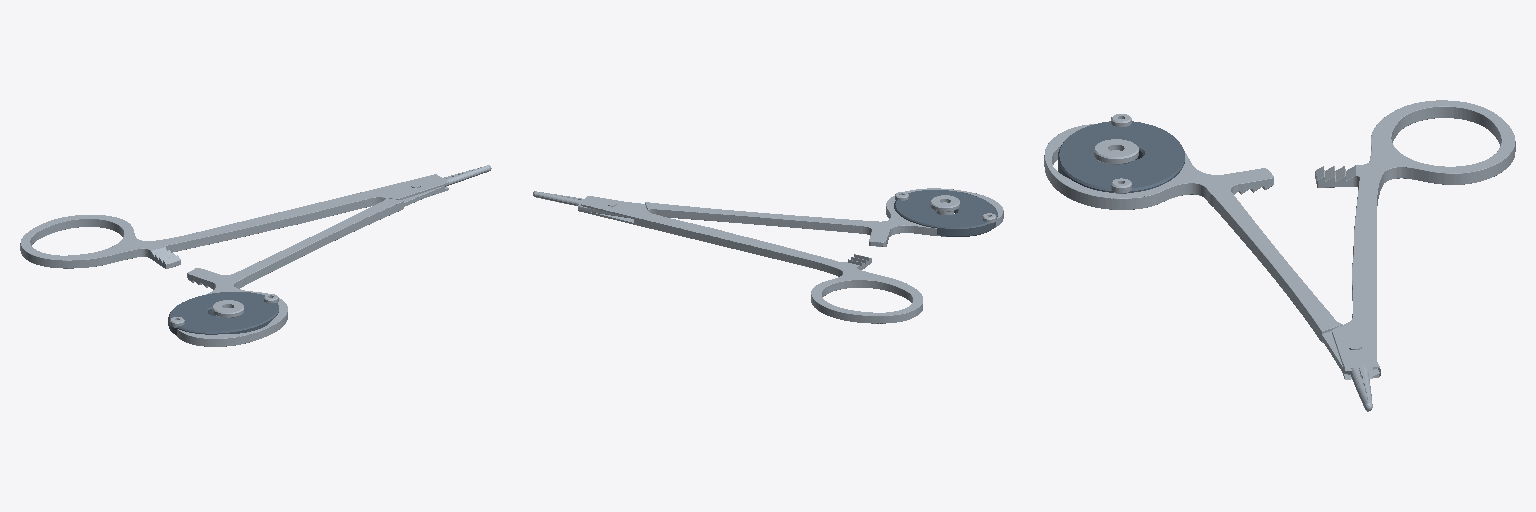
URDF robot description (surgenoid_needle_holder):
<?xml version='1.0' encoding='utf-8'?>
<robot name="surgenoid_needle_holder">
  <link name="SURGERY_CLAMP_ASSY_1">
    <!-- sw2robot inertia="hull" -->
    <collision>
      <origin xyz="0 0 0" rpy="0 0 0" />
      <geometry>
        <mesh filename="package://detachable_tools/meshes/simready_holder/fixed.stl" />
      </geometry>
    </collision>
    <inertial>
      <origin xyz="-0.004059165 0.0026714 -0.000173157" rpy="0 0 0" />
      <mass value="0.00675555" />
      <inertia ixx="4.67905e-07" ixy="9.59811e-07" ixz="1.28892e-08" iyy="6.25673e-06" iyz="-3.42424e-09" izz="6.71611e-06" />
    </inertial>
    <visual name="simready_holder_fixed">
      <origin xyz="0 0 0" rpy="0 0 0" />
      <geometry>
        <mesh filename="package://detachable_tools/meshes/simready_holder/fixed.obj" />
      </geometry>
      <material name="holder_steel">
        <color rgba=".70 .74 .78 1" />
      </material>
    </visual>
  </link>
  <link name="SURGERY_CLAMP_01_1">
    <!-- sw2robot inertia="hull" -->
    <collision>
      <origin xyz="0 0 0" rpy="0 0 0" />
      <geometry>
        <mesh filename="package://detachable_tools/meshes/simready_holder/moving.stl" />
      </geometry>
    </collision>
    <inertial>
      <origin xyz="0.042705769 0.022098692 -0.0013036672" rpy="0 0 0" />
      <mass value="0.00562524" />
      <inertia ixx="1.16073e-06" ixy="-1.91324e-06" ixz="-4.08357e-10" iyy="4.55448e-06" iyz="4.80985e-10" izz="5.71081e-06" />
    </inertial>
    <visual name="simready_holder_moving">
      <origin xyz="0 0 0" rpy="0 0 0" />
      <geometry>
        <mesh filename="package://detachable_tools/meshes/simready_holder/moving.obj" />
      </geometry>
      <material name="holder_steel">
        <color rgba=".70 .74 .78 1" />
      </material>
    </visual>
    <visual name="simready_holder_adapter_plate">
      <origin xyz="0 0 0" rpy="0 0 0" />
      <geometry>
        <mesh filename="package://detachable_tools/meshes/simready_holder/plate.obj" />
      </geometry>
      <material name="holder_brushed">
        <color rgba=".42 .48 .54 1" />
      </material>
    </visual>
    <visual name="simready_holder_adapter_screw_left">
      <origin xyz="0.0629 0.0396 0.0004" rpy="0 0 0" />
      <geometry>
        <mesh filename="package://detachable_tools/meshes/simready_holder/screw.obj" />
      </geometry>
      <material name="holder_steel">
        <color rgba=".70 .74 .78 1" />
      </material>
    </visual>
    <visual name="simready_holder_adapter_screw_right">
      <origin xyz="0.0888 0.0396 0.0004" rpy="0 0 0" />
      <geometry>
        <mesh filename="package://detachable_tools/meshes/simready_holder/screw.obj" />
      </geometry>
      <material name="holder_steel">
        <color rgba=".70 .74 .78 1" />
      </material>
    </visual>
  </link>
  <link name="XL_XC_330_1">
    <!-- sw2robot inertia="hull" -->
    <visual>
      <origin xyz="0 0 0" rpy="0 0 0" />
      <geometry>
        <mesh filename="package://detachable_tools/meshes/surgenoid_needle_holder/XL_XC_330_1.dae" />
      </geometry>
    </visual>
    <collision>
      <origin xyz="0 0 0" rpy="0 0 0" />
      <geometry>
        <mesh filename="package://detachable_tools/meshes/surgenoid_needle_holder/XL_XC_330_1.stl" />
      </geometry>
    </collision>
    <inertial>
      <origin xyz="7.9738e-05 -0.000522082 0.000156526" rpy="0 0 0" />
      <mass value="0.0168532" />
      <inertia ixx="2.45858e-06" ixy="-2.3451e-14" ixz="4.47712e-14" iyy="1.4262e-06" iyz="-4.7932e-08" izz="2.13119e-06" />
    </inertial>
  </link>
  <link name="base_link">
    <!-- sw2robot inertia="hull" -->
    <visual>
      <origin xyz="0 0 0" rpy="0 0 0" />
      <geometry>
        <mesh filename="package://detachable_tools/meshes/surgenoid_needle_holder/screwlock_male_hard_v2_1.dae" />
      </geometry>
    </visual>
    <collision>
      <origin xyz="0 0 0" rpy="0 0 0" />
      <geometry>
        <mesh filename="package://detachable_tools/meshes/surgenoid_needle_holder/screwlock_male_hard_v2_1.stl" />
      </geometry>
    </collision>
    <inertial>
      <origin xyz="1.4366722e-05 -0.00010691039 -0.0024040291" rpy="0 0 0" />
      <mass value="0.0162824" />
      <inertia ixx="1.61417e-06" ixy="3.47268e-09" ixz="-7.7713e-10" iyy="1.62572e-06" iyz="-1.41976e-09" izz="2.52267e-06" />
    </inertial>
  </link>
  <link name="small_needle_hoder_base_1">
    <!-- sw2robot inertia="hull" -->
    <visual>
      <origin xyz="0 0 0" rpy="0 0 0" />
      <geometry>
        <mesh filename="package://detachable_tools/meshes/surgenoid_needle_holder/small_needle_hoder_base_1.dae" />
      </geometry>
    </visual>
    <collision>
      <origin xyz="0 0 0" rpy="0 0 0" />
      <geometry>
        <mesh filename="package://detachable_tools/meshes/surgenoid_needle_holder/small_needle_hoder_base_1.stl" />
      </geometry>
    </collision>
    <inertial>
      <origin xyz="-0.00120503 0.0003059 -0.000101532" rpy="0 0 0" />
      <mass value="0.020773" />
      <inertia ixx="2.68109e-06" ixy="8.34229e-08" ixz="7.87172e-08" iyy="5.53461e-06" iyz="4.19901e-08" izz="7.91237e-06" />
    </inertial>
  </link>
  <link name="small_needle_holder_link1_1">
    <!-- sw2robot inertia="hull" -->
    <visual>
      <origin xyz="0 0 0" rpy="0 0 0" />
      <geometry>
        <mesh filename="package://detachable_tools/meshes/surgenoid_needle_holder/small_needle_holder_link1_1.dae" />
      </geometry>
    </visual>
    <collision>
      <origin xyz="0 0 0" rpy="0 0 0" />
      <geometry>
        <mesh filename="package://detachable_tools/meshes/surgenoid_needle_holder/small_needle_holder_link1_1.stl" />
      </geometry>
    </collision>
    <inertial>
      <origin xyz="0.0067603411 0.010742293 -0.0056220958" rpy="0 0 0" />
      <mass value="0.00332751" />
      <inertia ixx="4.67896e-07" ixy="-2.67743e-07" ixz="2.00383e-08" iyy="2.10944e-07" iyz="3.18413e-08" izz="6.2836e-07" />
    </inertial>
  </link>
  <link name="small_needle_holder_link2_1">
    <!-- sw2robot inertia="hull" -->
    <visual>
      <origin xyz="0 0 0" rpy="0 0 0" />
      <geometry>
        <mesh filename="package://detachable_tools/meshes/surgenoid_needle_holder/small_needle_holder_link2_1.dae" />
      </geometry>
    </visual>
    <collision>
      <origin xyz="0 0 0" rpy="0 0 0" />
      <geometry>
        <mesh filename="package://detachable_tools/meshes/surgenoid_needle_holder/small_needle_holder_link2_1.stl" />
      </geometry>
    </collision>
    <inertial>
      <origin xyz="-0.034350012 0.015044146 0.0115" rpy="0 0 0" />
      <mass value="0.00195003" />
      <inertia ixx="1.82933e-07" ixy="3.91066e-07" ixz="-1.45386e-22" iyy="9.04573e-07" iyz="6.36835e-23" izz="1.08458e-06" />
    </inertial>
    <visual name="simready_holder_adapter_pin">
      <origin xyz="-0.0687 0.0300882 0.0115" rpy="0 0 0" />
      <geometry>
        <mesh filename="package://detachable_tools/meshes/simready_holder/pin.obj" />
      </geometry>
      <material name="holder_steel">
        <color rgba=".70 .74 .78 1" />
      </material>
    </visual>
  </link>
  <joint name="small_needle_hoder_base_1__XL_XC_330_1" type="fixed">
    <origin xyz="0.038688034 -0.006248738 0.011774486" rpy="-3.141592607 0 1.5707963" />
    <parent link="small_needle_hoder_base_1" />
    <child link="XL_XC_330_1" />
    <axis xyz="0 0 -1" />
    <!-- mates: COINCIDENT, CONCENTRIC, CONCENTRIC, COINCIDENT, CONCENTRIC, CONCENTRIC -->
  </joint>
  <joint name="small_needle_hoder_base_1__SURGERY_CLAMP_ASSY_1" type="fixed">
    <origin xyz="-0.037277901 0.011289345 -0.004030915" rpy="0 0 -3.0922928" />
    <parent link="small_needle_hoder_base_1" />
    <child link="SURGERY_CLAMP_ASSY_1" />
    <axis xyz="0 0 -1" />
    <!-- mates: COINCIDENT, COINCIDENT, DISTANCE, COINCIDENT, COINCIDENT, DISTANCE -->
  </joint>
  <joint name="screwlock_male_hard_v2_1__small_needle_hoder_base_1" type="fixed">
    <origin xyz="-0.009065668 -0.000168333 -0.015571405" rpy="-6.327e-06 -2.654e-06 3.141589" />
    <parent link="base_link" />
    <child link="small_needle_hoder_base_1" />
    <axis xyz="0 0 1" />
    <!-- mates: COINCIDENT, CONCENTRIC, PARALLEL, COINCIDENT, CONCENTRIC, PARALLEL -->
  </joint>
  <joint name="SURGERY_CLAMP_ASSY_1__SURGERY_CLAMP_01_1" type="revolute">
    <origin xyz="0.040124645 -0.00714826 0.001320943" rpy="0 0 3.0922928" />
    <parent link="SURGERY_CLAMP_ASSY_1" />
    <child link="SURGERY_CLAMP_01_1" />
    <axis xyz="0 0 -1" />
    <limit lower="-0.29662" upper="0.44772" effort="10" velocity="3.14" />
    <mimic joint="XL_XC_330_1__small_needle_holder_link1_1" multiplier="0.581031" offset="0" />
    <!-- mates: CONCENTRIC, COINCIDENT, CONCENTRIC, COINCIDENT -->
  </joint>
  <joint name="XL_XC_330_1__small_needle_holder_link1_1" type="revolute">
    <origin xyz="7.9738e-05 0.006746875 0.013703058" rpy="-3.141592607 0 1.5707963" />
    <parent link="XL_XC_330_1" />
    <child link="small_needle_holder_link1_1" />
    <axis xyz="0 0 -1" />
    <limit lower="-0.62832" upper="0.62832" effort="10" velocity="3.14" />
    <!-- mates: COINCIDENT, CONCENTRIC, COINCIDENT, CONCENTRIC -->
  </joint>
  <joint name="small_needle_holder_link1_1__small_needle_holder_link2_1" type="revolute">
    <origin xyz="0.020772397 0.033007689 -0.017" rpy="0 -0 0" />
    <parent link="small_needle_holder_link1_1" />
    <child link="small_needle_holder_link2_1" />
    <axis xyz="0 0 1" />
    <limit lower="-0.84903" upper="0.87973" effort="10" velocity="3.14" />
    <mimic joint="XL_XC_330_1__small_needle_holder_link1_1" multiplier="1.35269" offset="0" />
    <!-- mates: CONCENTRIC, COINCIDENT, CONCENTRIC, COINCIDENT -->
  </joint>
</robot>

--- Facts derived from the render (not from the file) ---
The picture shows the robot from 3 angles, left to right: view 1: azimuth 30°, elevation 25°; view 2: azimuth 150°, elevation 25°; view 3: azimuth 270°, elevation 25°; orthographic projection.
Model surgenoid_needle_holder with 7 links and 6 joints (3 revolute, 3 fixed), rooted at base_link, posed every joint at zero.
Visible links, largest first — view 1: SURGERY_CLAMP_ASSY_1, SURGERY_CLAMP_01_1; view 2: SURGERY_CLAMP_01_1, SURGERY_CLAMP_ASSY_1; view 3: SURGERY_CLAMP_01_1, SURGERY_CLAMP_ASSY_1, small_needle_holder_link2_1.
Boxes of the visible links, x1,y1,x2,y2 form: SURGERY_CLAMP_ASSY_1: [20, 165, 490, 268]; SURGERY_CLAMP_01_1: [168, 167, 491, 346]; SURGERY_CLAMP_01_1: [533, 188, 1003, 246]; SURGERY_CLAMP_ASSY_1: [534, 191, 922, 323]; SURGERY_CLAMP_01_1: [1044, 114, 1380, 411]; SURGERY_CLAMP_ASSY_1: [1315, 100, 1515, 410]; small_needle_holder_link2_1: [1094, 139, 1138, 164].
Bounding box of the posed robot: 0.1213 × 0.0798 × 0.0087 m (x, y, z).
6 mesh visuals loaded from 10 distinct referenced files (5 OBJ); not drawn: 5 (reference not matched to a file when rendering).
